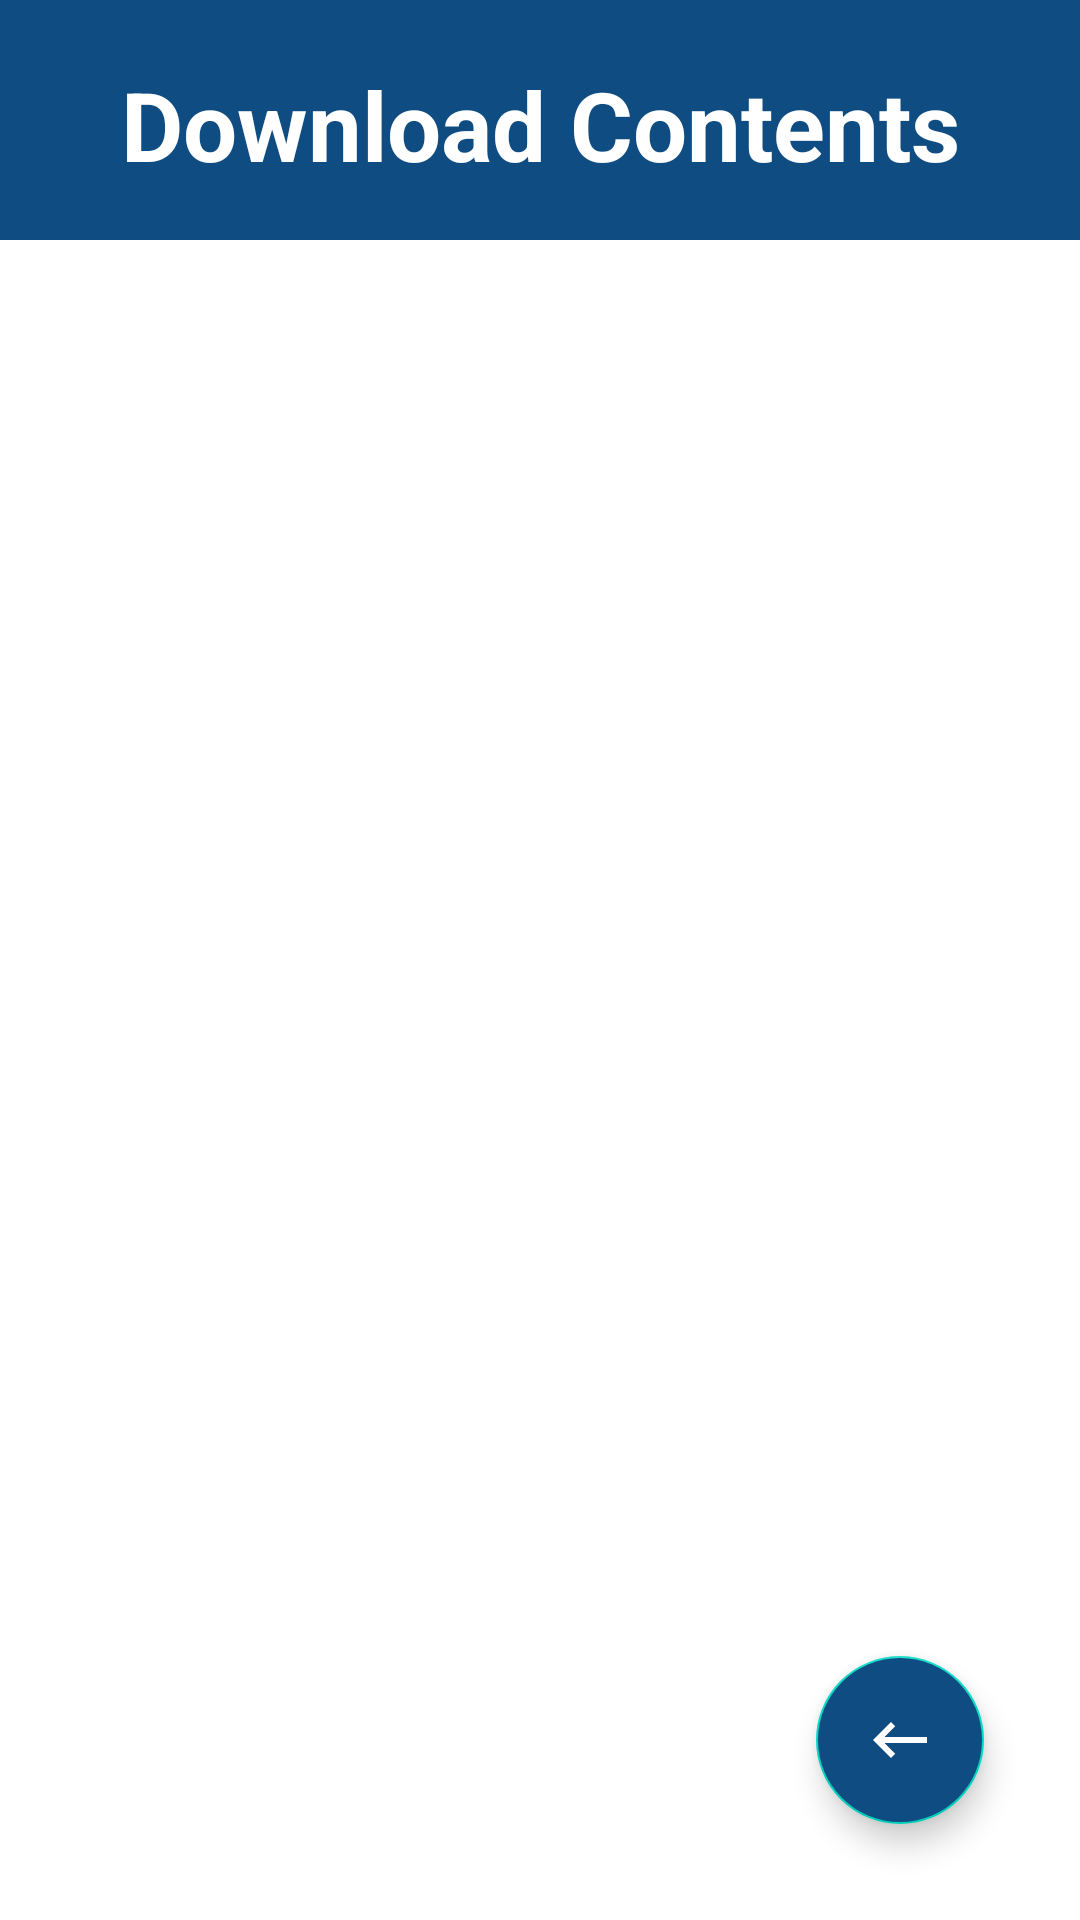

Icons on this 1080*1920 Android screen, each with its box as (x1, y1, x2, y2):
back: (816, 1656, 984, 1824)
